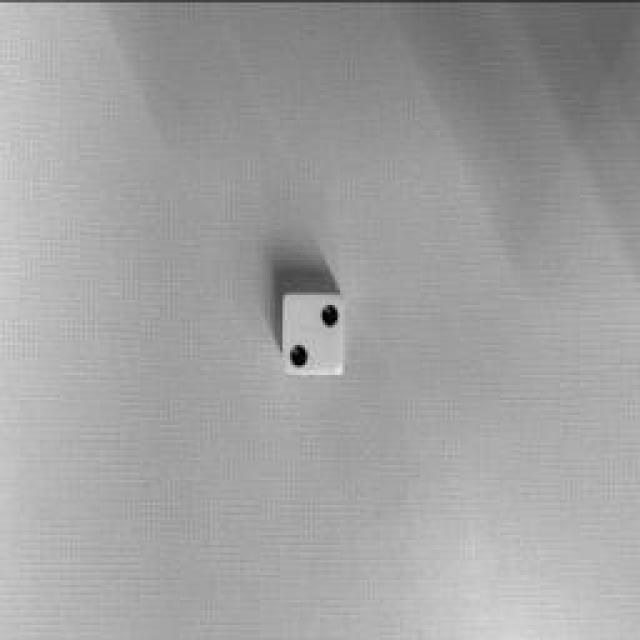dice_2: (283, 291, 345, 374)
